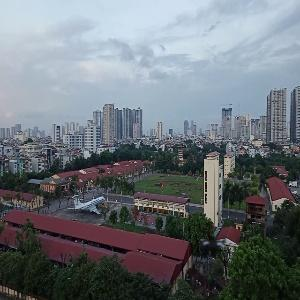drone: (163, 195, 263, 295)
